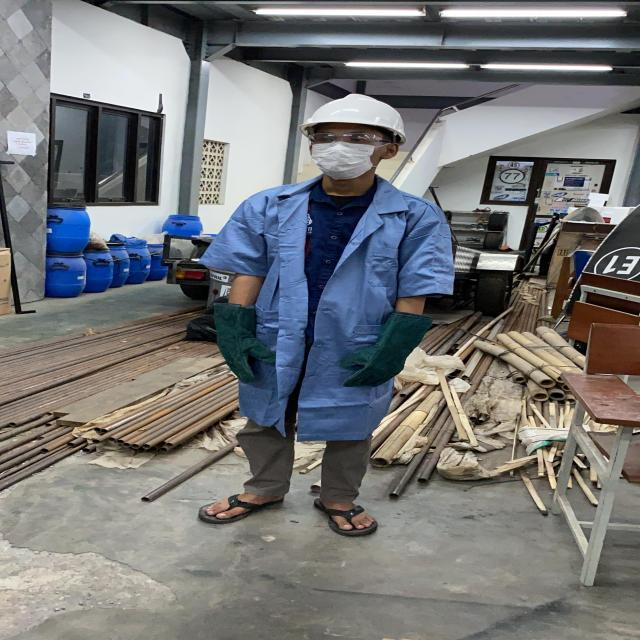glasses: (304, 131, 396, 149)
